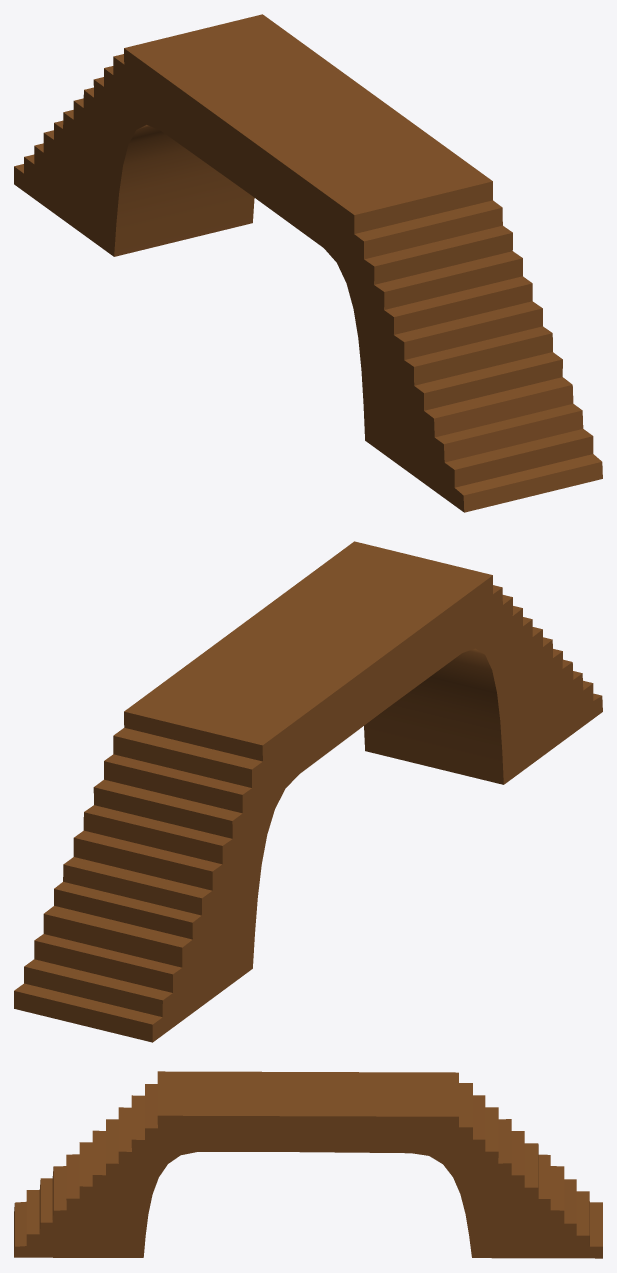
Rendered from bruecke2.DAE.
3 renders of one model, top to bottom at view 1: azimuth 30°, elevation 25°; view 2: azimuth 150°, elevation 25°; view 3: azimuth 270°, elevation 25°, orthographic. The views are drawn at different scales.
Visible parts, largest first — view 1: Line001; view 2: Line001; view 3: Line001.
Boxes of the visible parts, x1,y1,x2,y2 form: Line001: (14, 14, 602, 512); Line001: (14, 541, 602, 1042); Line001: (14, 1071, 602, 1258).
Bounding box in the file's own units: 80 × 120 × 450.
